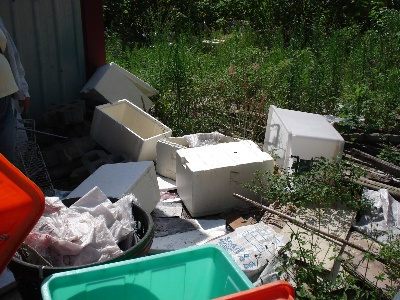box: (40, 243, 255, 300), (262, 105, 345, 172)
plastic_bag: (43, 197, 128, 261), (220, 223, 285, 274)
styrofoam: (175, 138, 276, 219), (62, 161, 161, 215), (88, 100, 172, 162), (154, 131, 240, 181), (81, 63, 158, 112)
